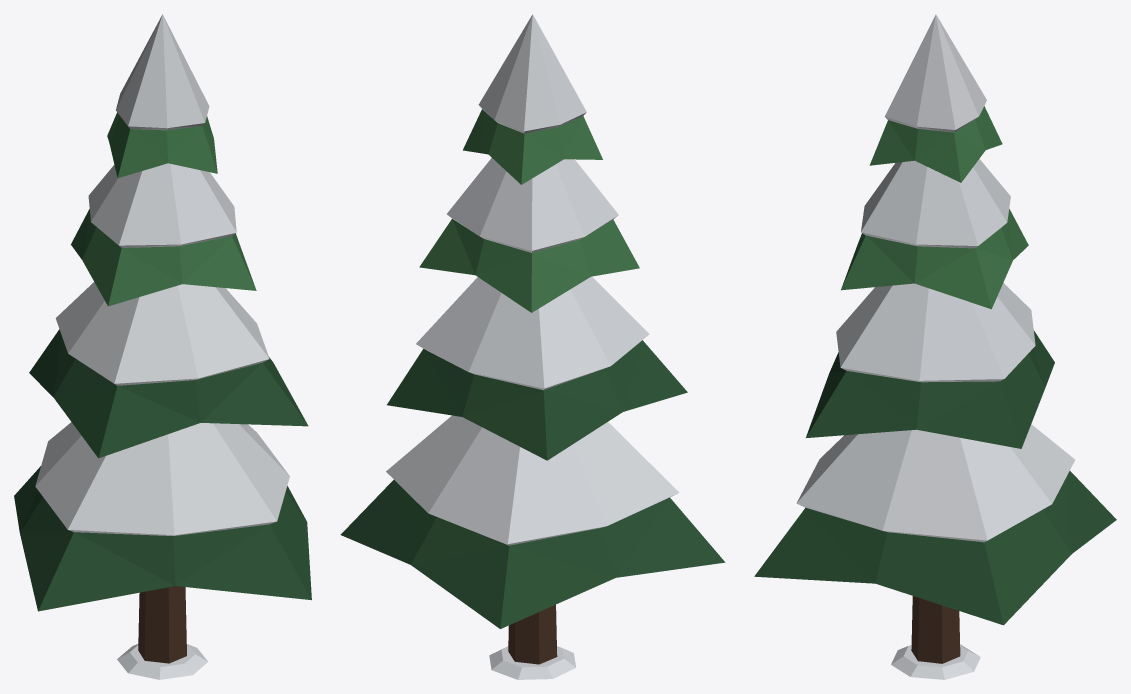
The model's file is pine_a.glb.
The picture shows the model from 3 angles, left to right: view 1: azimuth 30°, elevation 25°; view 2: azimuth 150°, elevation 25°; view 3: azimuth 270°, elevation 25°; orthographic projection.
Parts seen in each view (by area): view 1: Tree; view 2: Tree; view 3: Tree.
Part boxes in pixels (left/top/right/bottom): Tree: left=14, top=14, right=311, bottom=679; Tree: left=340, top=14, right=725, bottom=679; Tree: left=754, top=14, right=1116, bottom=679.
Bounding box in the file's own units: 3.59 × 7 × 3.56.
